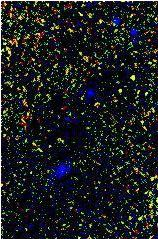star: (117, 60, 147, 90)
